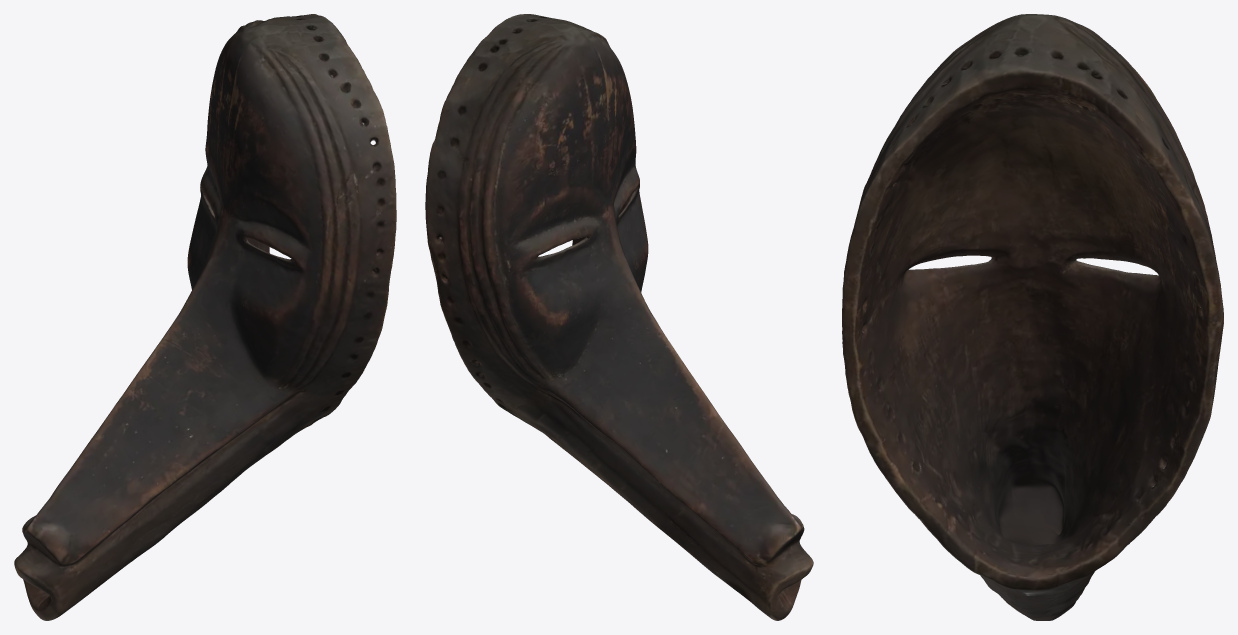
Rendered from preview.glb.
The picture shows the model from 3 angles, left to right: view 1: azimuth 30°, elevation 25°; view 2: azimuth 150°, elevation 25°; view 3: azimuth 270°, elevation 25°; orthographic projection. The views are drawn at different scales.
Parts seen in each view (by area): view 1: Object_2; view 2: Object_2; view 3: Object_2.
Part boxes in pixels (<box>): Object_2: <box>14,14,396,620</box>; Object_2: <box>425,14,813,620</box>; Object_2: <box>842,14,1223,620</box>.
Bounding box in the file's own units: 0.3823 × 0.6037 × 0.2788.
1 material, 1 textured.
